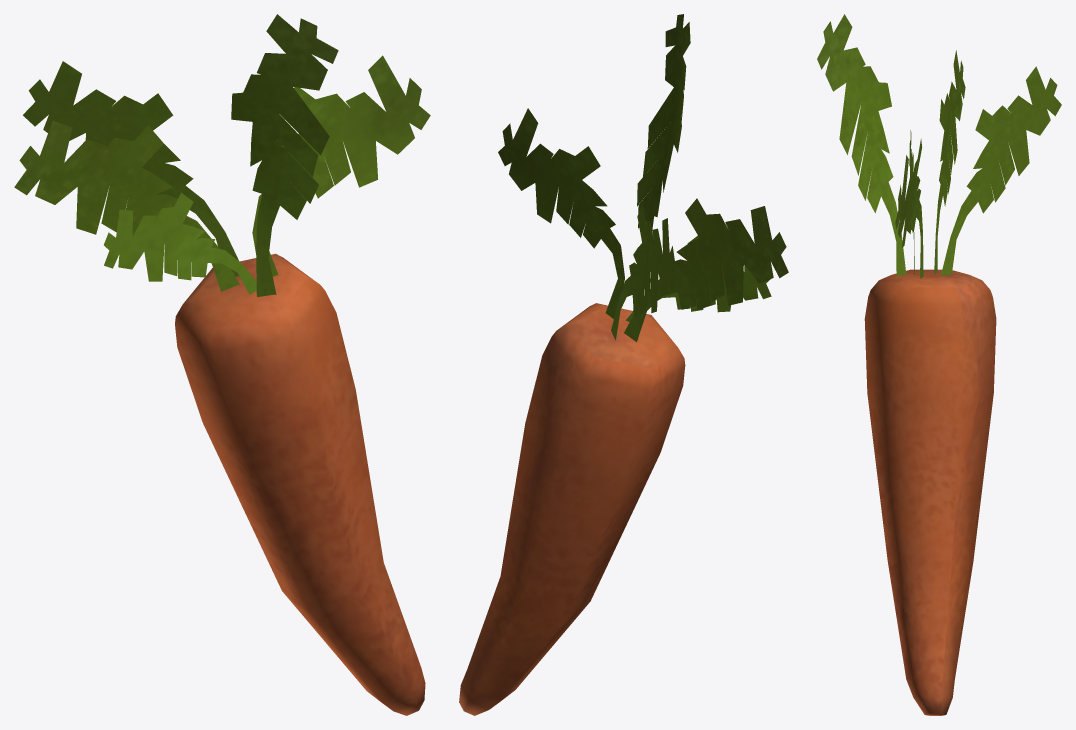
Rendered from LP_CarrotRaw.glb.
The picture shows the model from 3 angles, left to right: view 1: azimuth 30°, elevation 25°; view 2: azimuth 150°, elevation 25°; view 3: azimuth 270°, elevation 25°; orthographic projection. The views are drawn at different scales.
Visible parts, largest first — view 1: Circle; view 2: Circle; view 3: Circle.
Part boxes in pixels (box(x1,y1,x2,y2)): Circle: box(14, 14, 430, 715); Circle: box(459, 14, 788, 715); Circle: box(817, 14, 1061, 715).
Size of the model in its own units: 0.4913 by 0.95 by 0.3346.
2 materials, 2 textured.
